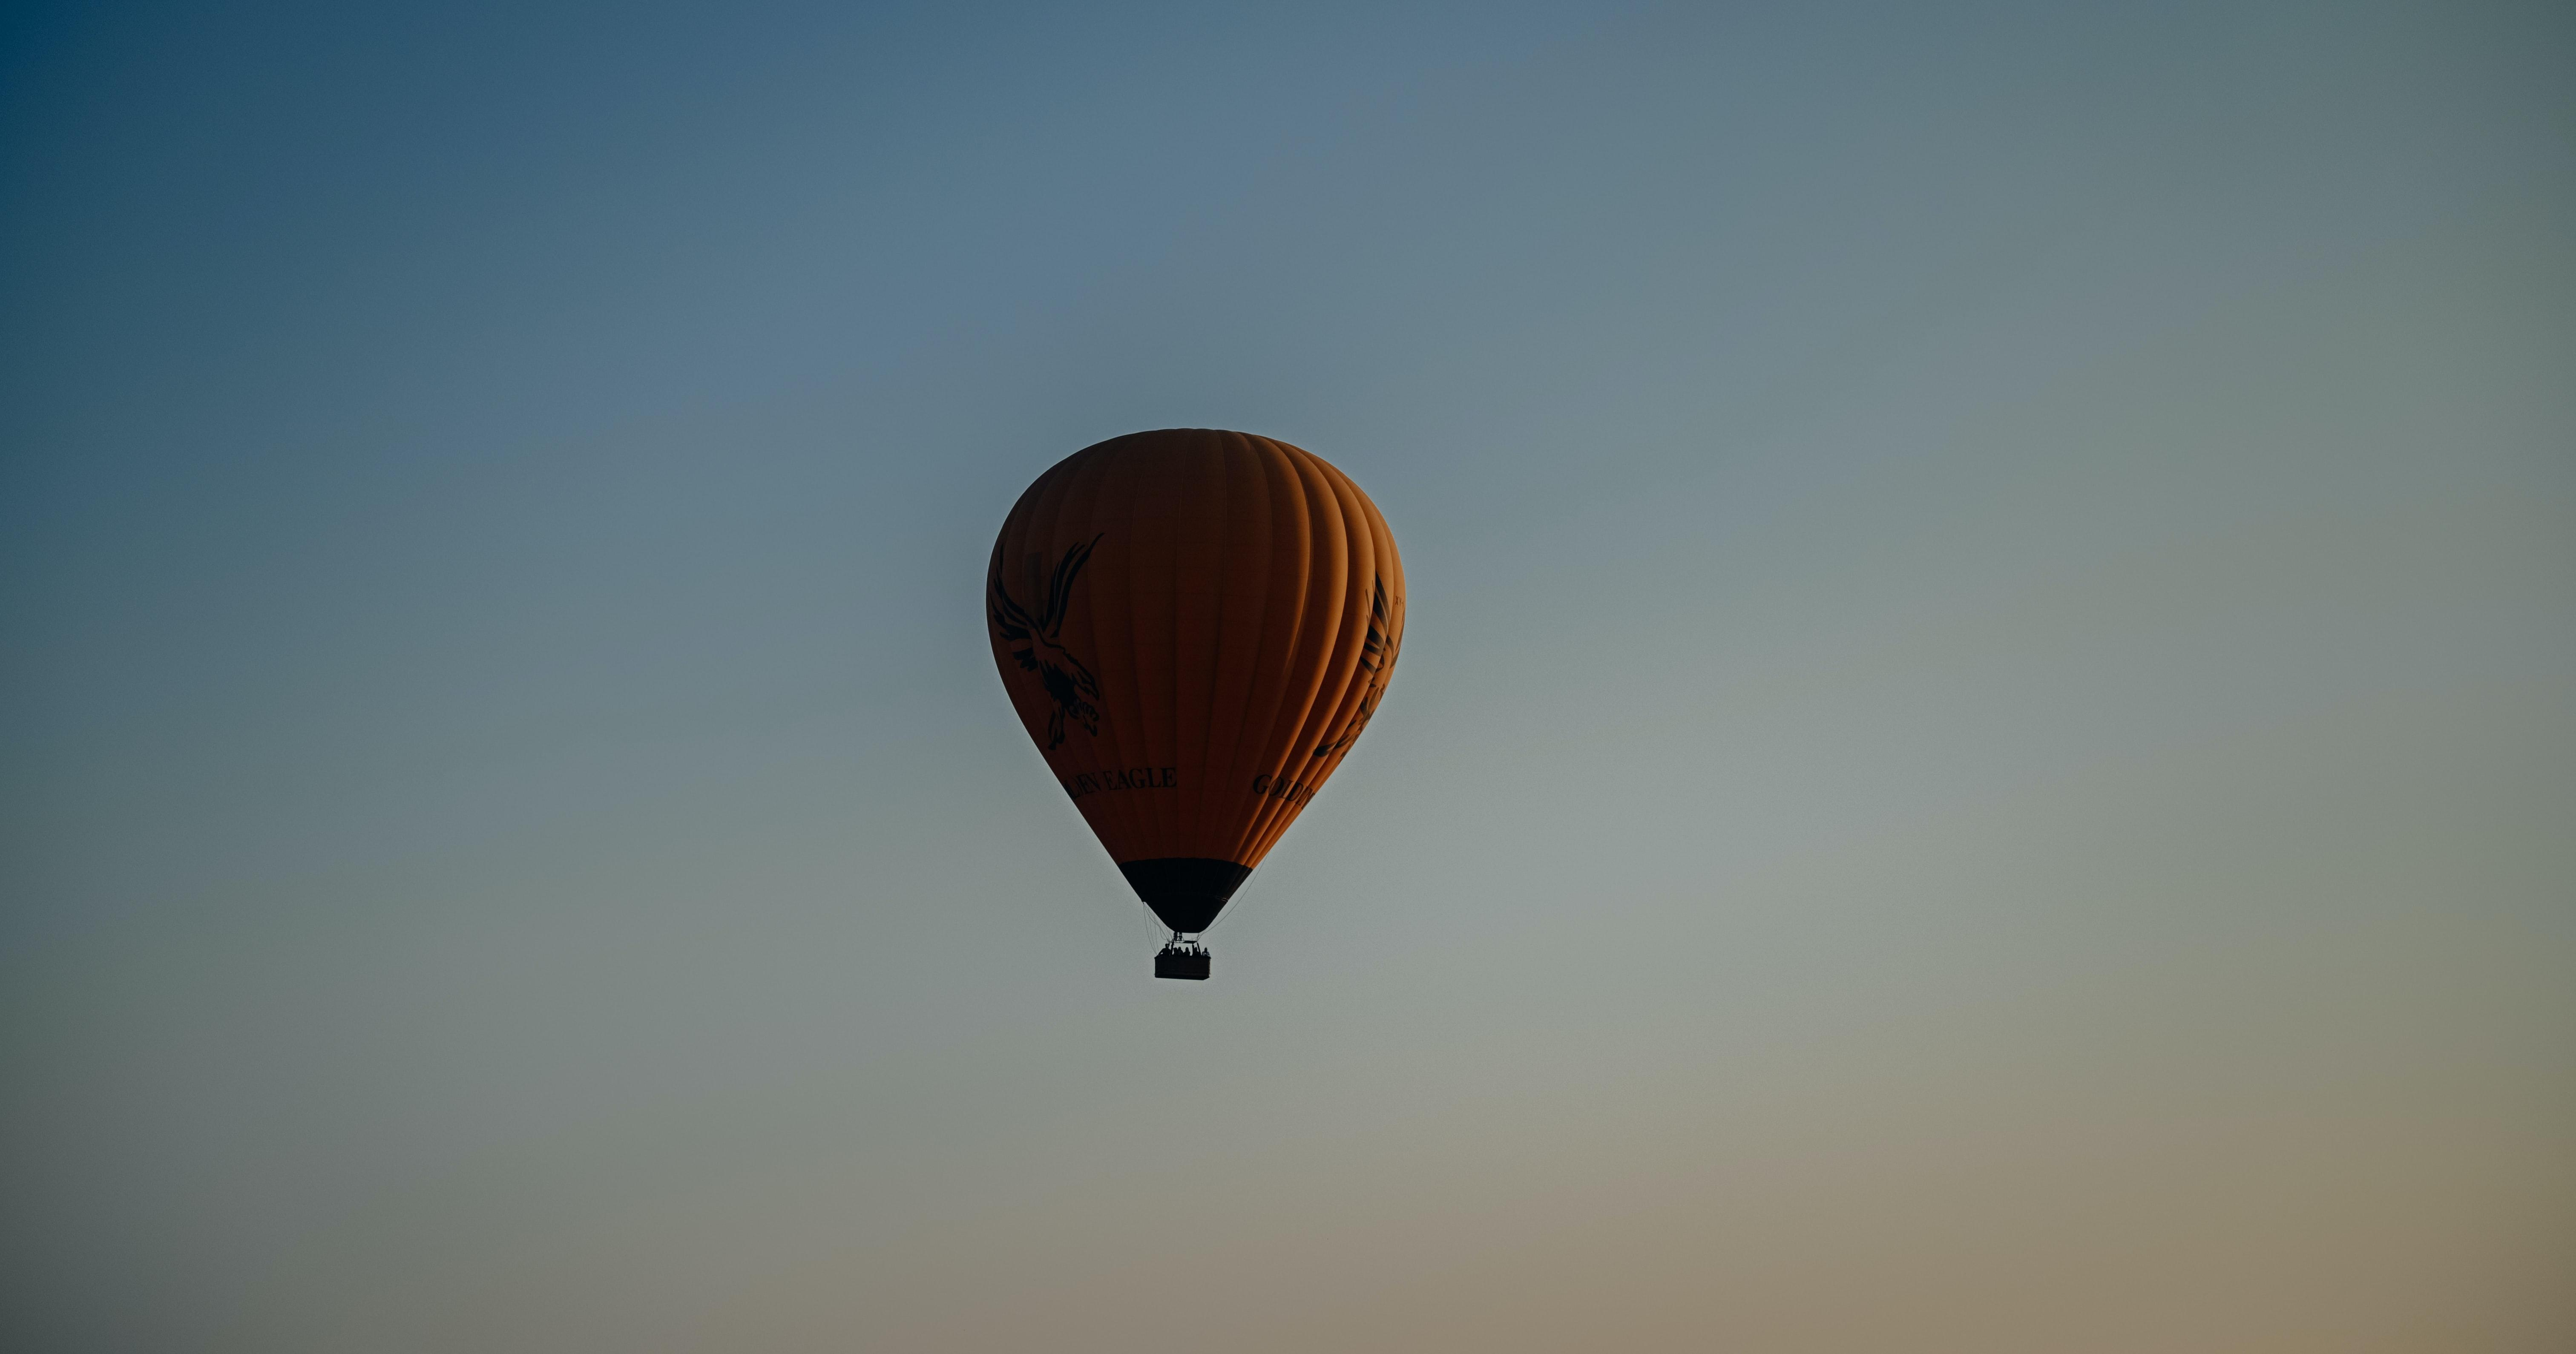hot air ballon: (983, 414, 1416, 991)
